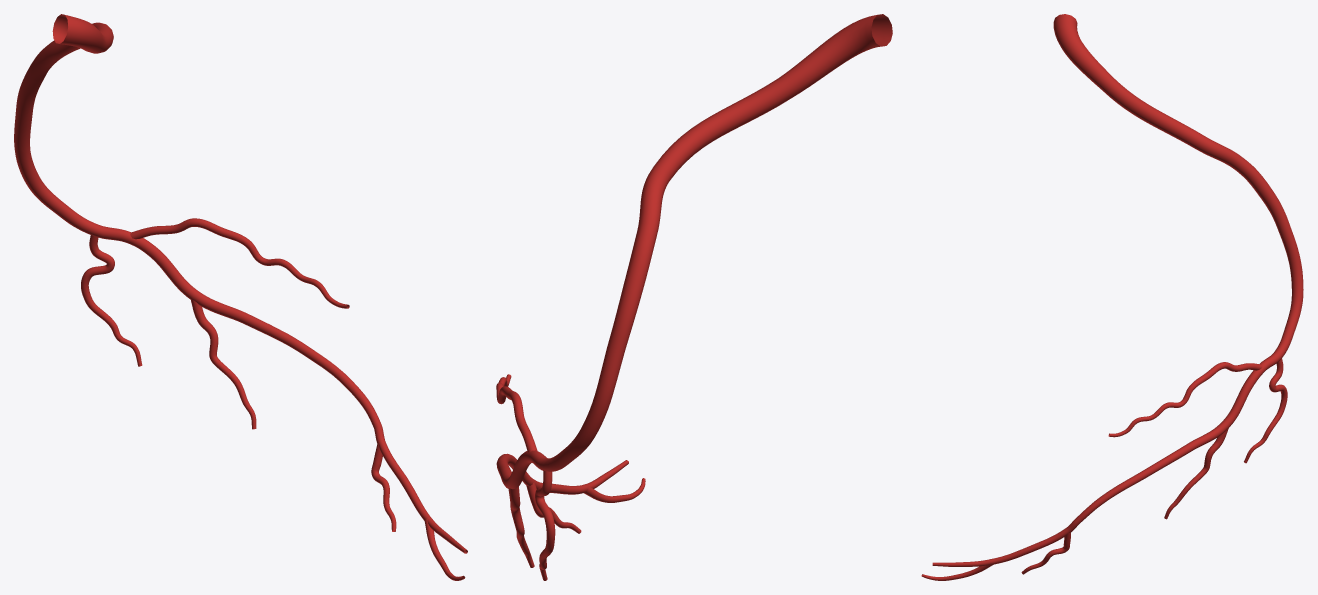
File: circulatorio-circumflex-artery-of-heart.glb
3 renders of one model, left to right at view 1: azimuth 30°, elevation 25°; view 2: azimuth 150°, elevation 25°; view 3: azimuth 270°, elevation 25°, orthographic. The views are drawn at different scales.
Parts seen in each view (by area): view 1: Circumflex artery of heart; view 2: Circumflex artery of heart; view 3: Circumflex artery of heart.
Boxes of the visible parts, x1,y1,x2,y2 form: Circumflex artery of heart: [14, 14, 467, 580]; Circumflex artery of heart: [496, 14, 892, 580]; Circumflex artery of heart: [921, 14, 1303, 580].
Bounding box in the file's own units: 0.0451 × 0.0749 × 0.0575.
